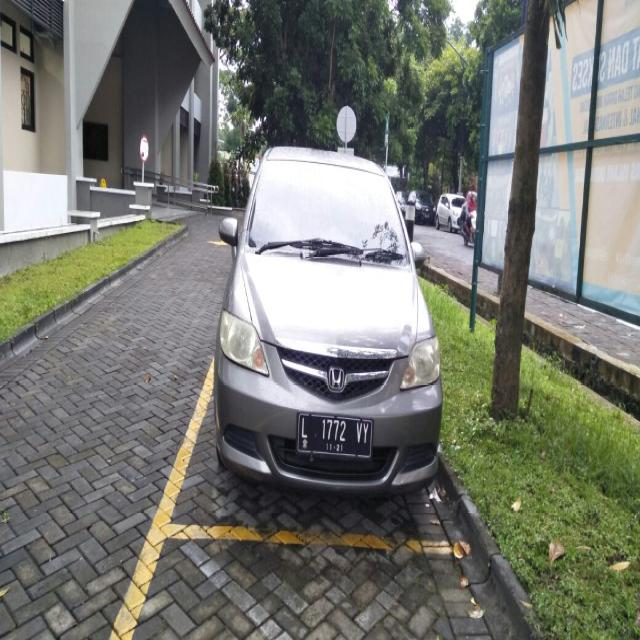plate: (298, 412, 372, 460)
